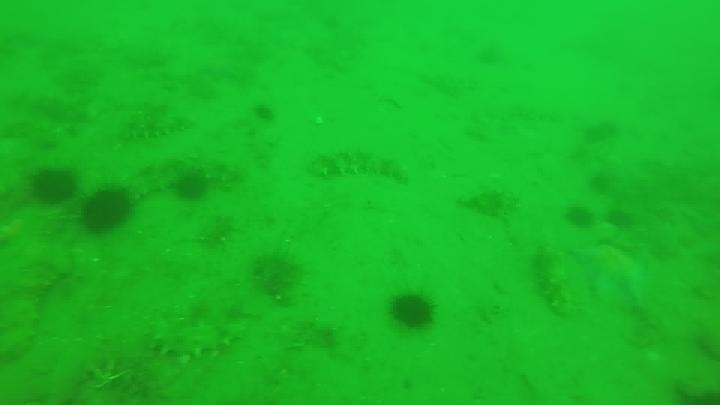echinus: (79, 186, 134, 235), (387, 290, 438, 332), (29, 166, 79, 206), (171, 170, 210, 203), (563, 204, 595, 231), (587, 169, 616, 196), (605, 206, 636, 231), (251, 102, 278, 124)
holothurian: (1, 258, 65, 365), (145, 313, 249, 362), (126, 156, 239, 201), (307, 145, 409, 185), (530, 248, 576, 319), (116, 107, 195, 144), (457, 184, 519, 220)
starfish: (571, 242, 648, 307)
